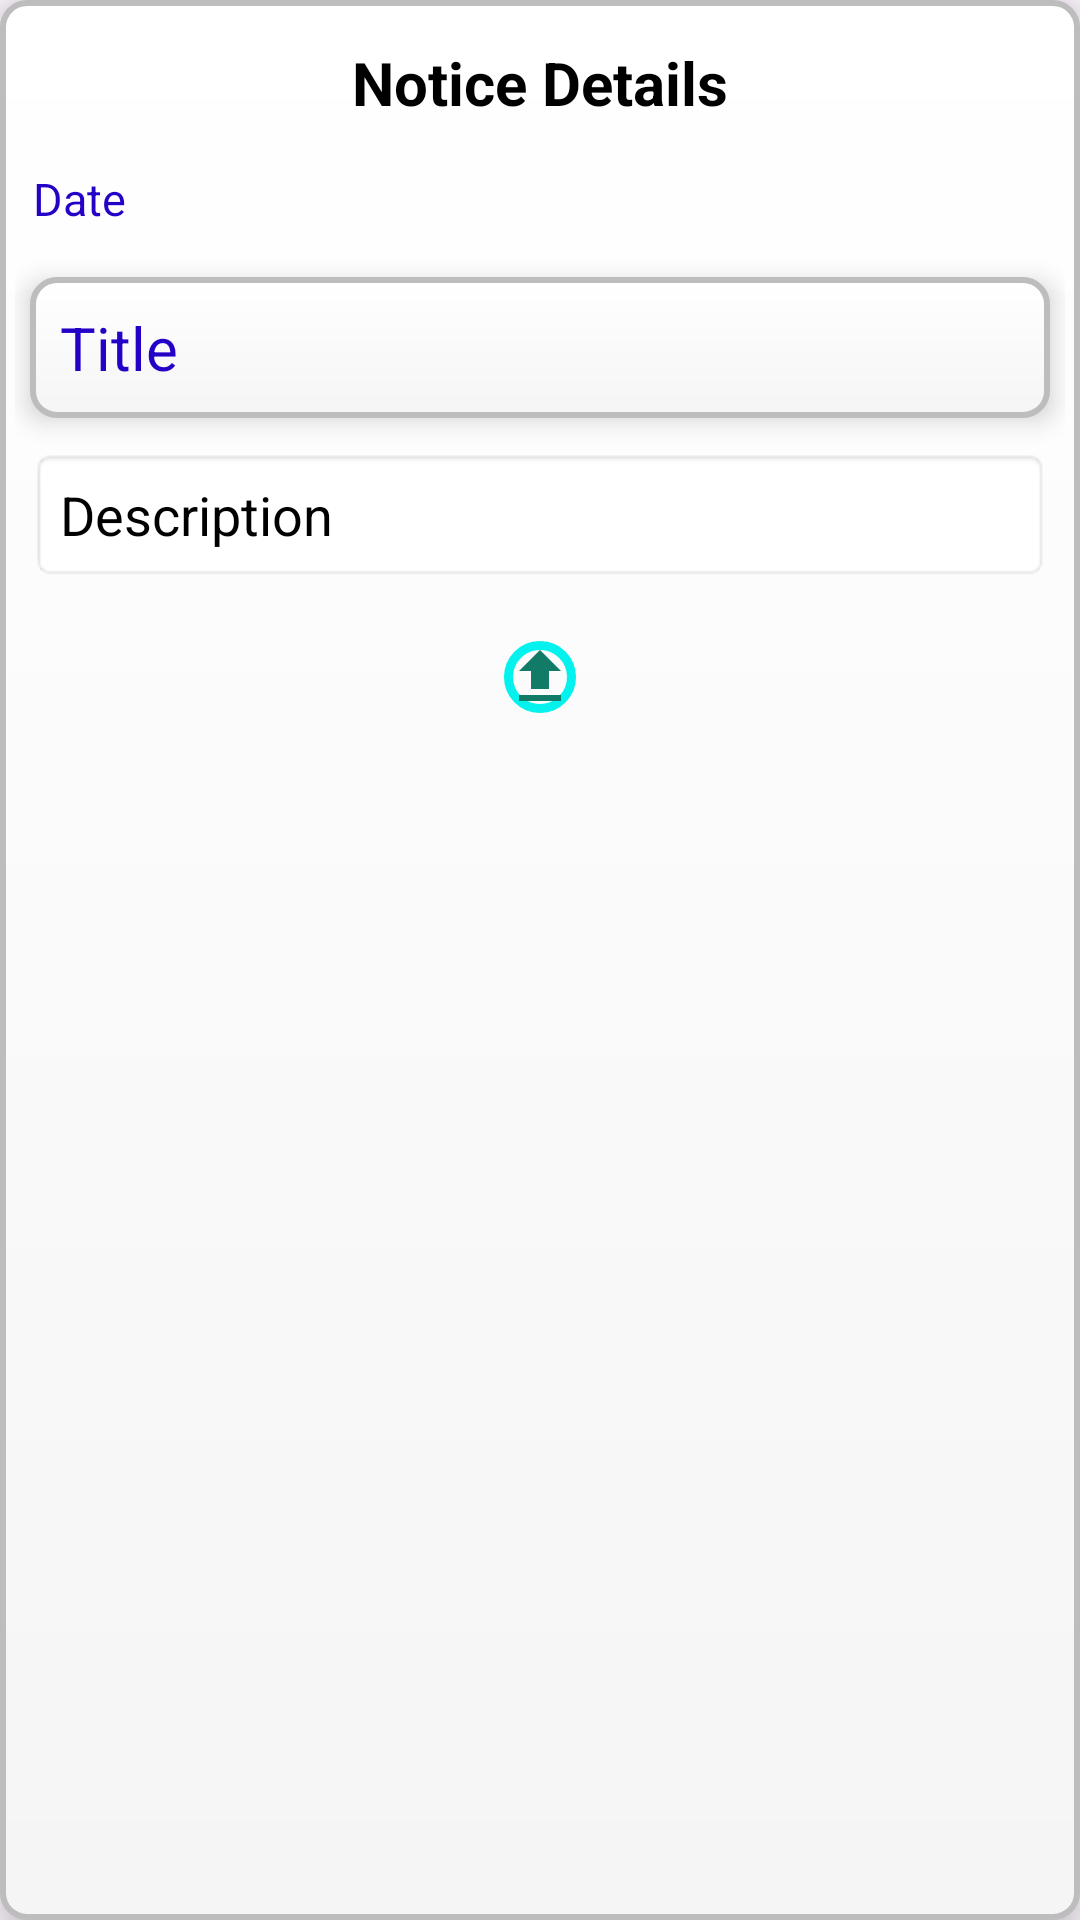

Point at icon controls on the screen. Image size 1080 x 1920, points as (x=x, y=y).
upload: (x=540, y=677)
